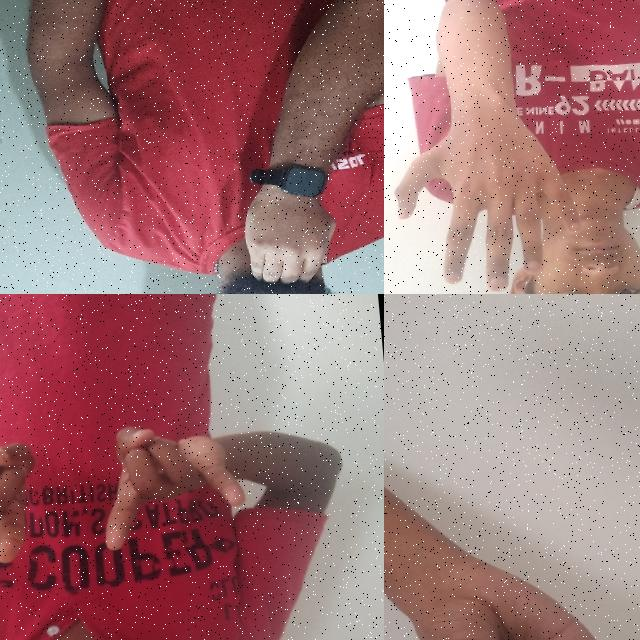Chin Flick: (177, 174, 366, 294)
Corna: (384, 493, 640, 640), (88, 406, 256, 555), (0, 415, 50, 577)
Moutza: (384, 77, 590, 294)
